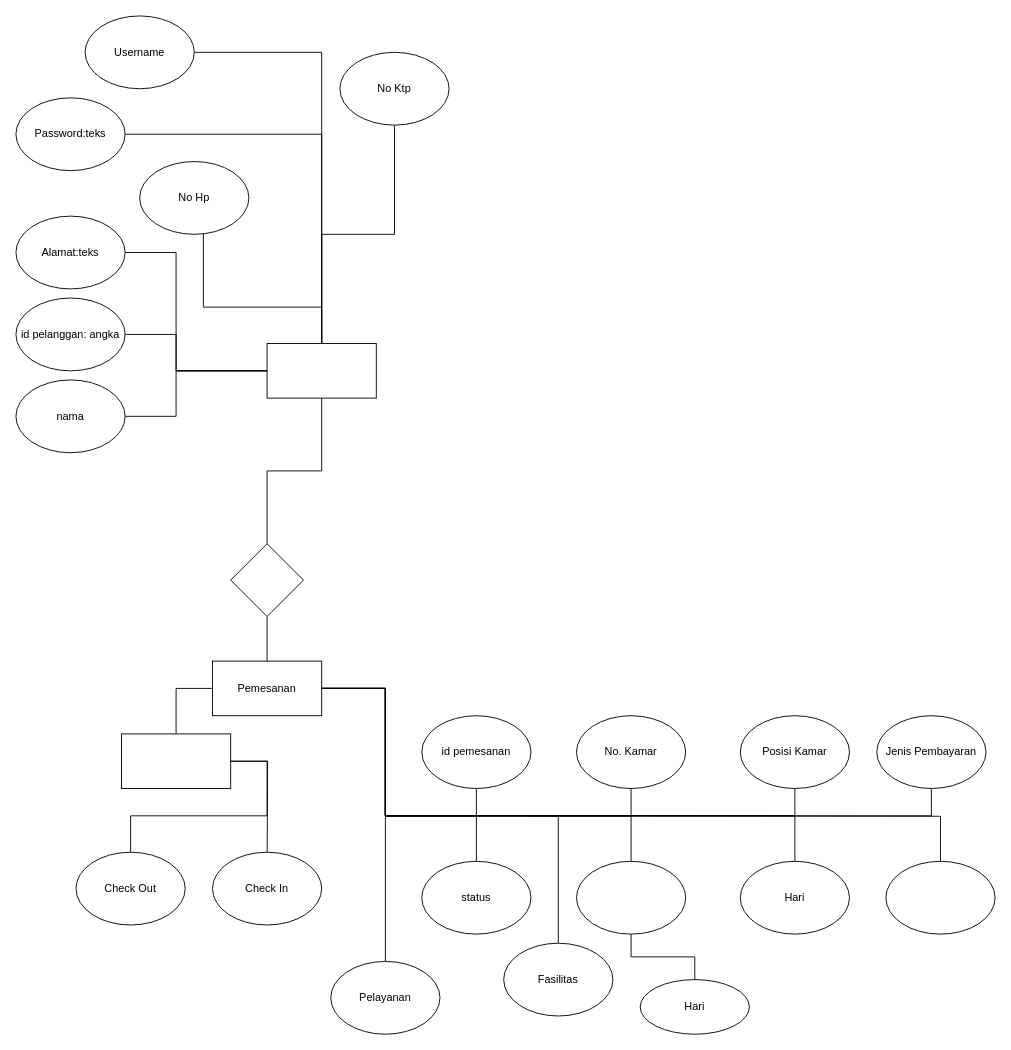
This 1011x1050 diagram has some shape labels left out. The centre of each missing label's shape, as x and y in pixels:
"Booked" goes at point 176,761.
"Kapasitas Kamar" goes at point 940,897.
"melakukan" goes at point 266,580.
"Penyewa" goes at point 321,370.
"Season" goes at point 631,897.
